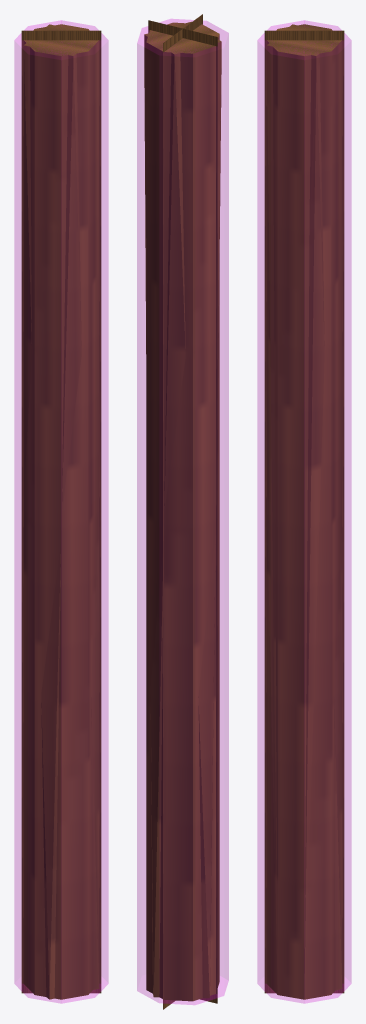
File: stake_wood.dae
3 views of the same model, side by side, from view 1: azimuth 90°, elevation 25°; view 2: azimuth 150°, elevation 25°; view 3: azimuth 270°, elevation 25° (orthographic).
Visible parts, largest first — view 1: Colmesh_stake-1, stake_wood_a800, stake_wood_a200, stake_wood_a50; view 2: Colmesh_stake-1, stake_wood_a800, stake_wood_a200, stake_wood_a50; view 3: Colmesh_stake-1, stake_wood_a800, stake_wood_a200, stake_wood_a50.
Boxes of the visible parts, left/top/right/bottom form: Colmesh_stake-1: left=14, top=20, right=108, bottom=1003; stake_wood_a800: left=23, top=24, right=99, bottom=999; stake_wood_a200: left=23, top=24, right=99, bottom=999; stake_wood_a50: left=21, top=30, right=101, bottom=993; Colmesh_stake-1: left=137, top=19, right=228, bottom=1004; stake_wood_a800: left=146, top=22, right=219, bottom=1001; stake_wood_a200: left=144, top=21, right=221, bottom=998; stake_wood_a50: left=148, top=14, right=217, bottom=1009; Colmesh_stake-1: left=257, top=20, right=351, bottom=1003; stake_wood_a800: left=266, top=24, right=342, bottom=999; stake_wood_a200: left=266, top=24, right=342, bottom=990; stake_wood_a50: left=264, top=30, right=344, bottom=993.
Bounding box in the file's own units: 0.1 × 0.1 × 1.12.
Materials: 2 (1 with a texture image).
